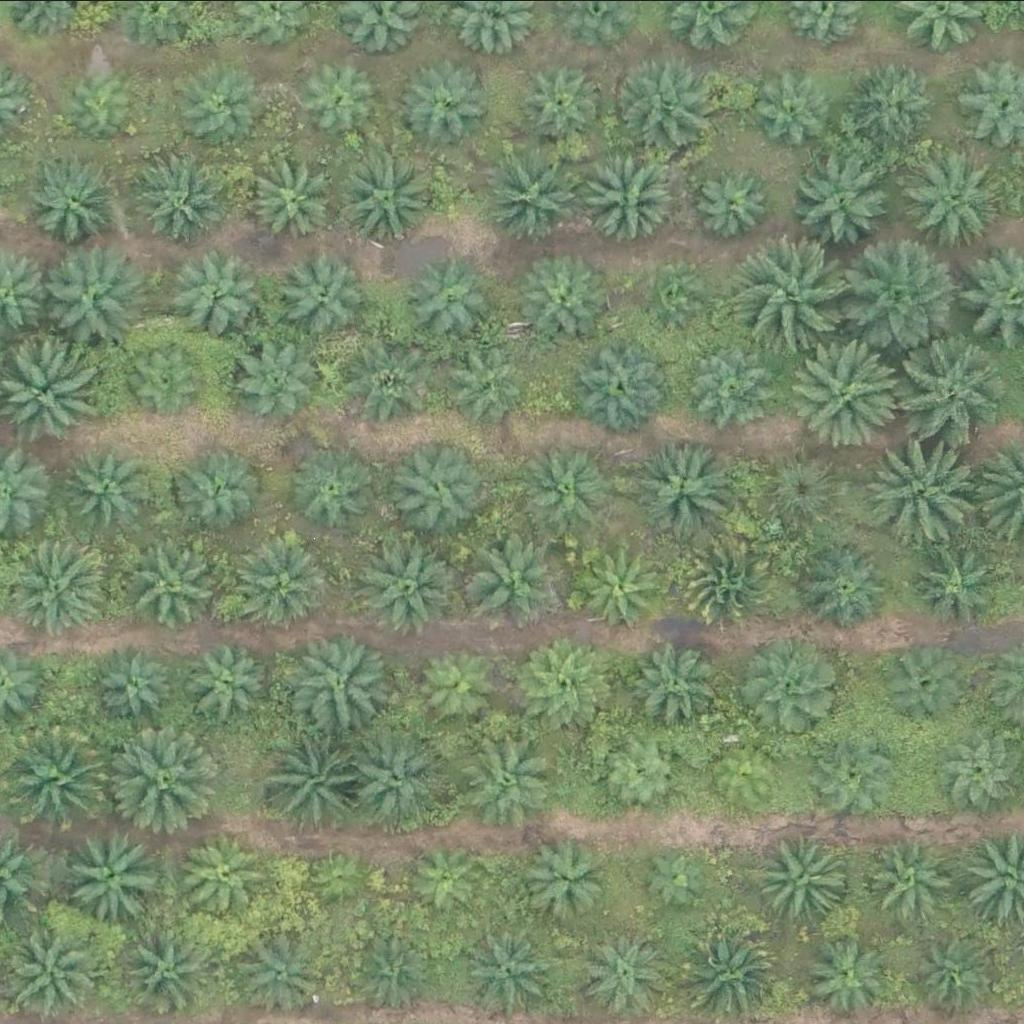Kelapa_Sawit: (870, 435, 984, 548), (847, 240, 960, 353), (893, 329, 1006, 442), (789, 333, 902, 446), (737, 234, 851, 346), (4, 719, 117, 831), (103, 723, 216, 835), (613, 59, 714, 159), (901, 150, 1002, 250), (573, 332, 674, 432), (630, 440, 731, 540), (680, 920, 781, 1020), (62, 826, 163, 926), (350, 723, 451, 823), (464, 727, 565, 827), (511, 630, 612, 730), (287, 627, 388, 727), (459, 531, 560, 631), (2, 534, 103, 634), (233, 528, 334, 628), (382, 438, 483, 538), (515, 440, 616, 540), (45, 241, 146, 341), (341, 146, 442, 246), (481, 143, 582, 243), (580, 145, 680, 245), (796, 151, 896, 251), (742, 636, 842, 736), (677, 527, 777, 627), (750, 826, 850, 926), (361, 536, 461, 636), (34, 154, 123, 242), (746, 62, 834, 150), (763, 450, 851, 538), (879, 638, 967, 726), (909, 545, 997, 633), (694, 341, 782, 429), (579, 545, 667, 633), (802, 540, 890, 628), (806, 934, 894, 1022), (127, 927, 215, 1015), (463, 927, 551, 1015), (180, 829, 268, 917), (173, 445, 261, 533), (293, 444, 381, 532), (237, 330, 325, 418), (351, 337, 439, 425), (180, 252, 268, 340), (281, 248, 369, 336), (410, 256, 498, 344), (140, 154, 228, 242), (600, 727, 688, 815), (241, 926, 330, 1013), (188, 639, 277, 726), (59, 443, 148, 530), (851, 60, 939, 147), (630, 646, 718, 733), (812, 732, 900, 819), (860, 830, 948, 917), (909, 924, 997, 1011), (577, 924, 665, 1011), (347, 934, 435, 1021), (524, 835, 612, 922), (286, 737, 374, 824), (713, 736, 801, 823), (410, 638, 498, 725), (93, 635, 181, 722), (131, 541, 219, 628), (446, 340, 534, 427), (128, 337, 216, 424), (526, 250, 614, 337), (254, 152, 342, 239), (518, 57, 606, 144), (400, 57, 488, 144), (296, 50, 384, 137), (173, 62, 261, 149), (67, 64, 143, 139), (696, 165, 772, 240), (302, 837, 378, 912), (405, 840, 481, 915), (637, 839, 712, 914), (640, 267, 703, 329)
